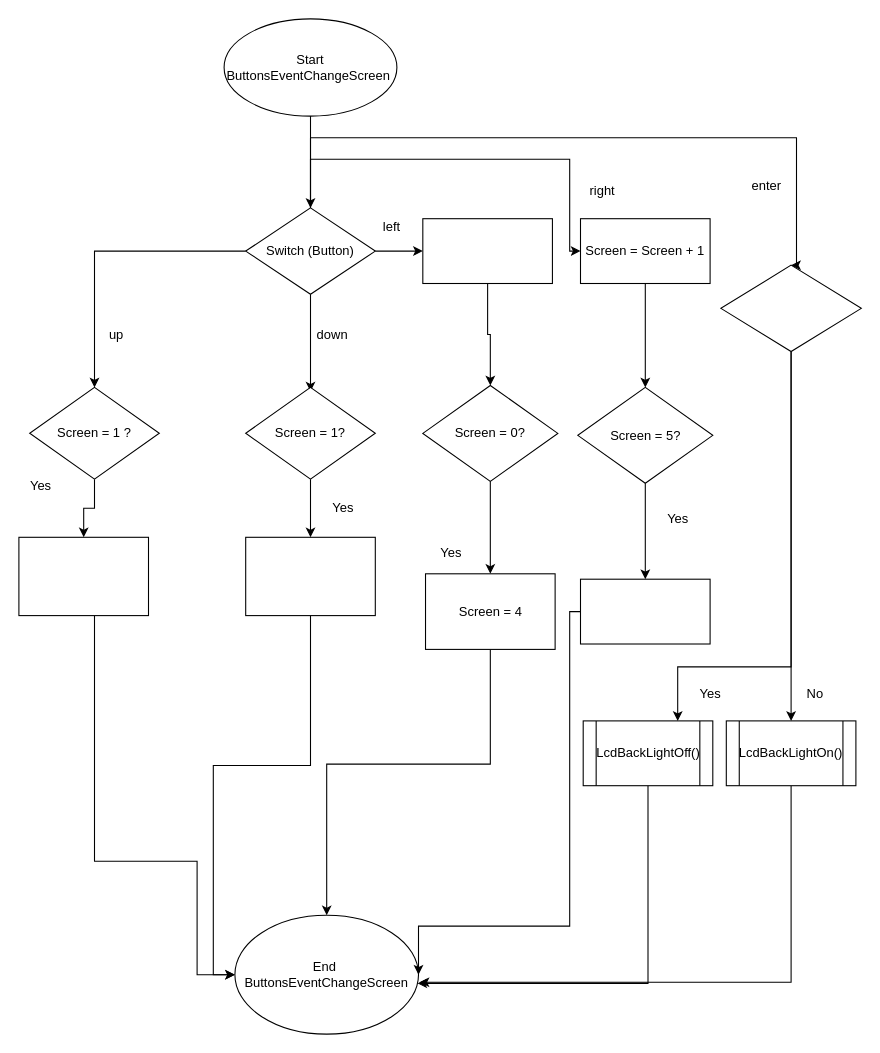
Some shapes in this 880 by 1053 pixel diagram are drawn without their labels. The centre of each missing label's shape, as x and y in pixels:
"LCD BackLight On?" goes at point 790,308.
"Screen = 1" goes at point 644,611.
"Screen = Screen - 1" goes at point 487,251.
"SetPointTemperature = SetPointTemperature + 1" goes at point 83,576.
"SetPointTemperature = SetPointTemperature - 1" goes at point 310,576.
